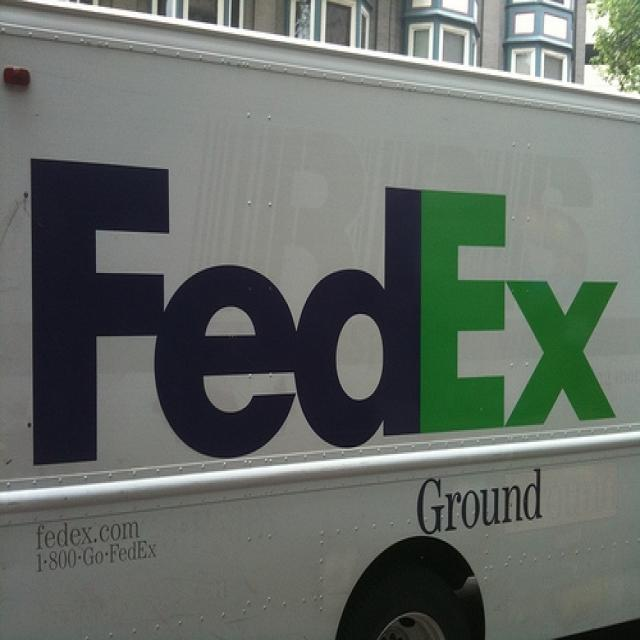fedex: (11, 144, 626, 474)
